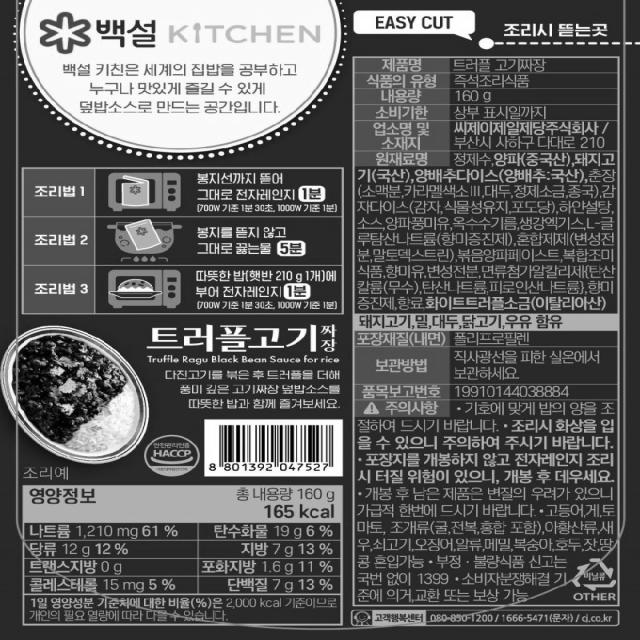Nutrition Label: (18, 482, 356, 629)
